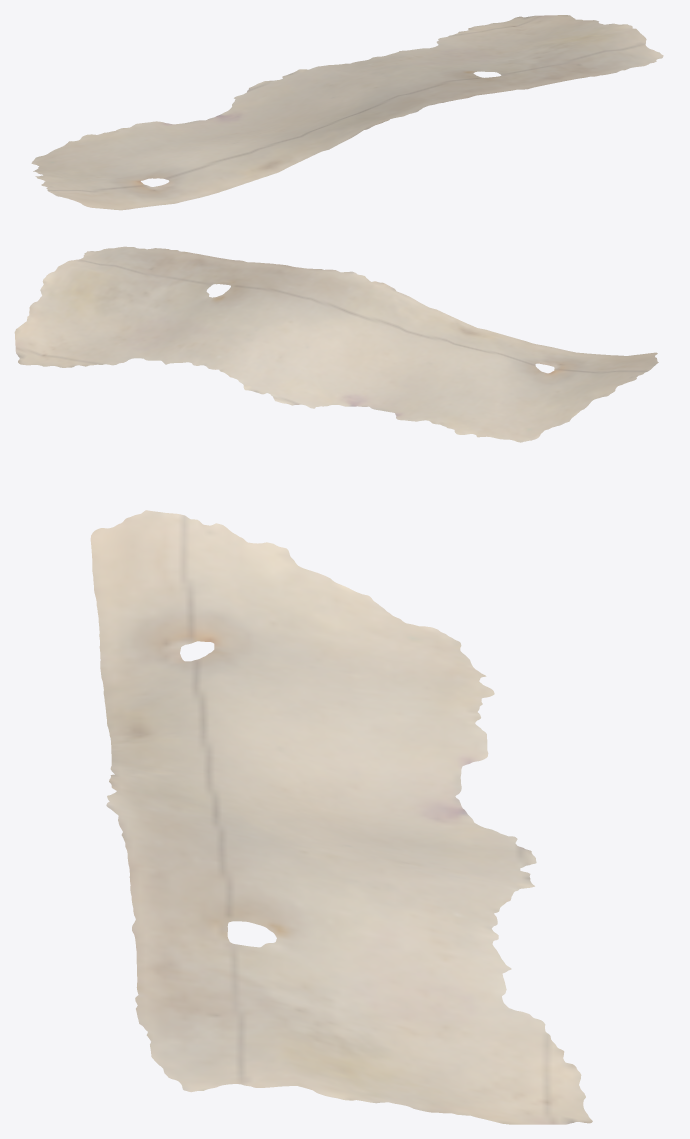
The model's file is SM_Paper_009.fbx.
The picture shows the model from 3 angles, top to bottom: view 1: azimuth 30°, elevation 25°; view 2: azimuth 150°, elevation 25°; view 3: azimuth 270°, elevation 25°; orthographic projection. The views are drawn at different scales.
Parts seen in each view (by area): view 1: SM_Paper_009; view 2: SM_Paper_009; view 3: SM_Paper_009.
Boxes of the visible parts, left/top/right/bottom form: SM_Paper_009: left=31, top=15, right=663, bottom=210; SM_Paper_009: left=14, top=246, right=658, bottom=442; SM_Paper_009: left=90, top=510, right=592, bottom=1124.
Bounding box in the file's own units: 39.33 × 15.86 × 3.82.
Materials: 1 (1 with a texture image).
